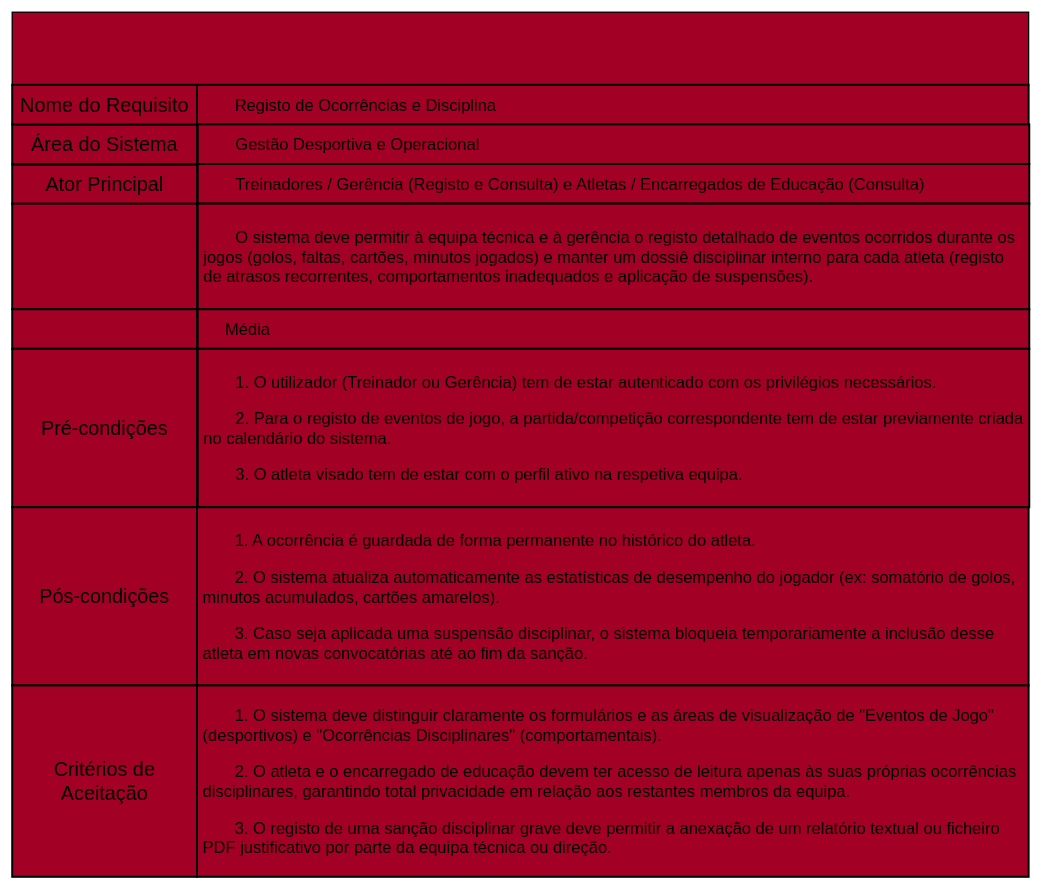
Some shapes in this 1041 by 889 pixel diagram are drawn without their labels. The centre of each missing label's shape, as x and y in pixels:
Descrição: pixel 104 256
Prioridade: pixel 104 328
RF-10: pixel 520 48
